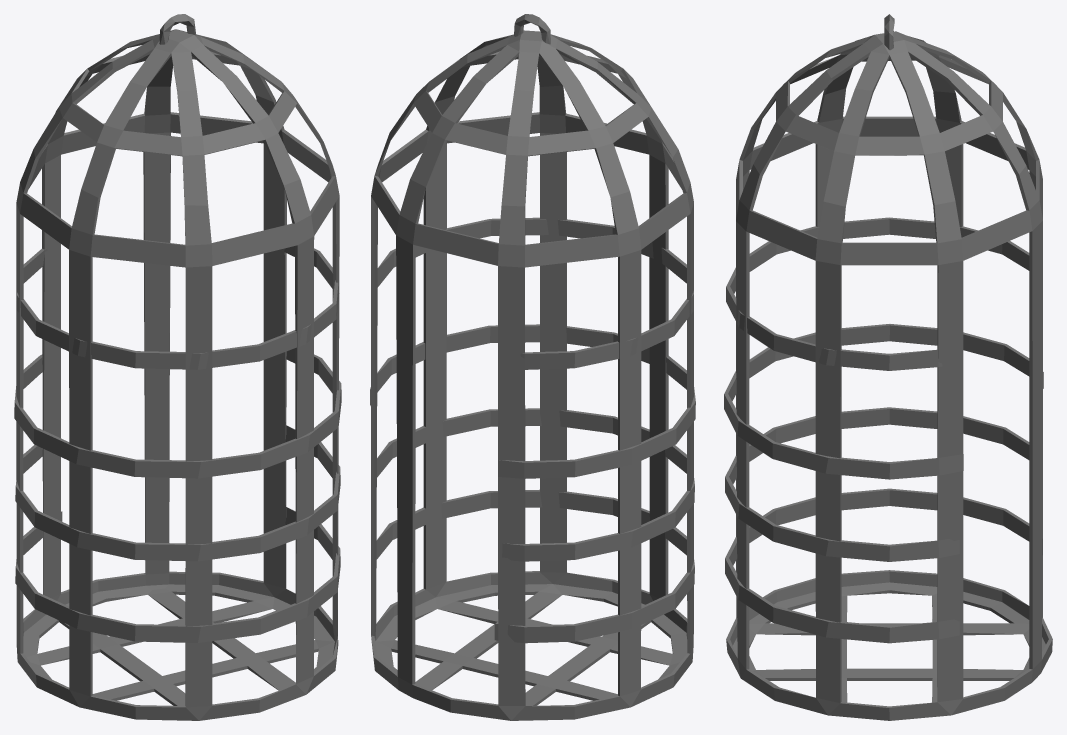
Rendered from LPCP_Cage19.fbx.
3 views of the same model, side by side, from view 1: azimuth 30°, elevation 25°; view 2: azimuth 150°, elevation 25°; view 3: azimuth 270°, elevation 25° (orthographic).
Parts seen in each view (by area): view 1: LPCP_Cage19; view 2: LPCP_Cage19; view 3: LPCP_Cage19.
Boxes of the visible parts, x1=… form: LPCP_Cage19: x1=14, y1=14, x2=341, y2=720; LPCP_Cage19: x1=370, y1=14, x2=695, y2=720; LPCP_Cage19: x1=724, y1=14, x2=1052, y2=720.
Size of the model in its own units: 2.61 by 5.55 by 2.59.
